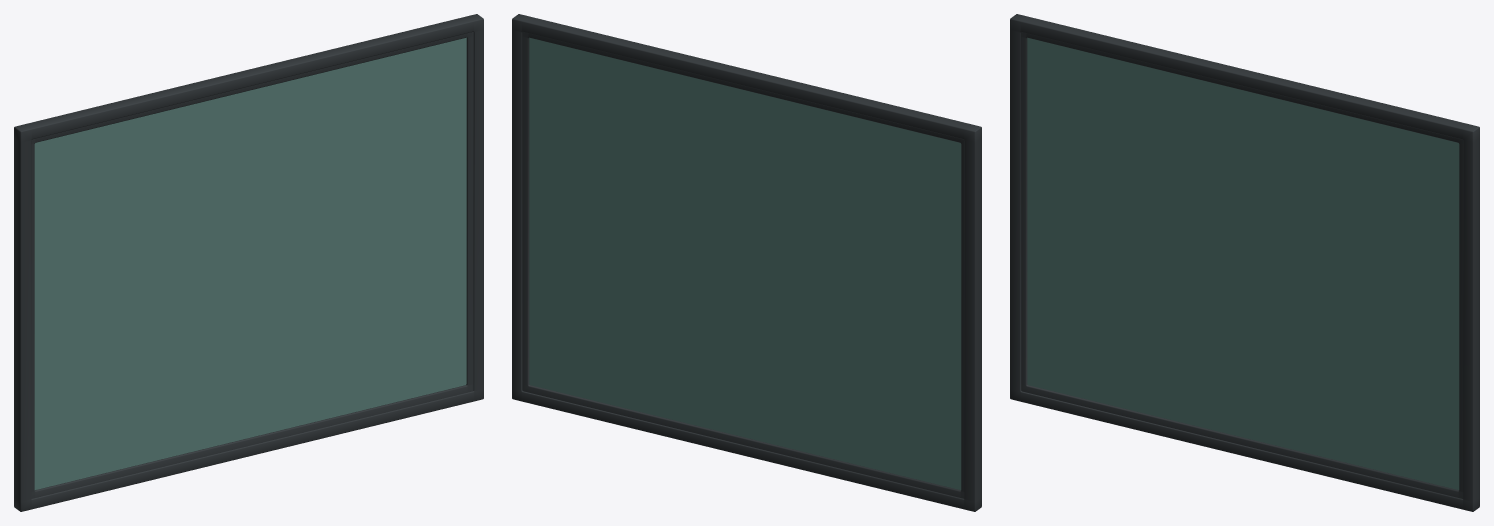
The model's file is SM_Window.FBX.
3 renders of one model, left to right at view 1: azimuth 30°, elevation 25°; view 2: azimuth 150°, elevation 25°; view 3: azimuth 330°, elevation 25°, orthographic.
Visible parts, largest first — view 1: SM_Window_LOD0; view 2: SM_Window_LOD0; view 3: SM_Window_LOD0.
Boxes of the visible parts, x1,y1,x2,y2 form: SM_Window_LOD0: (14,14,483,511); SM_Window_LOD0: (512,14,981,511); SM_Window_LOD0: (1010,14,1479,511).
Size of what is drawn, in the model's own units: 270 by 7.08 by 212.
